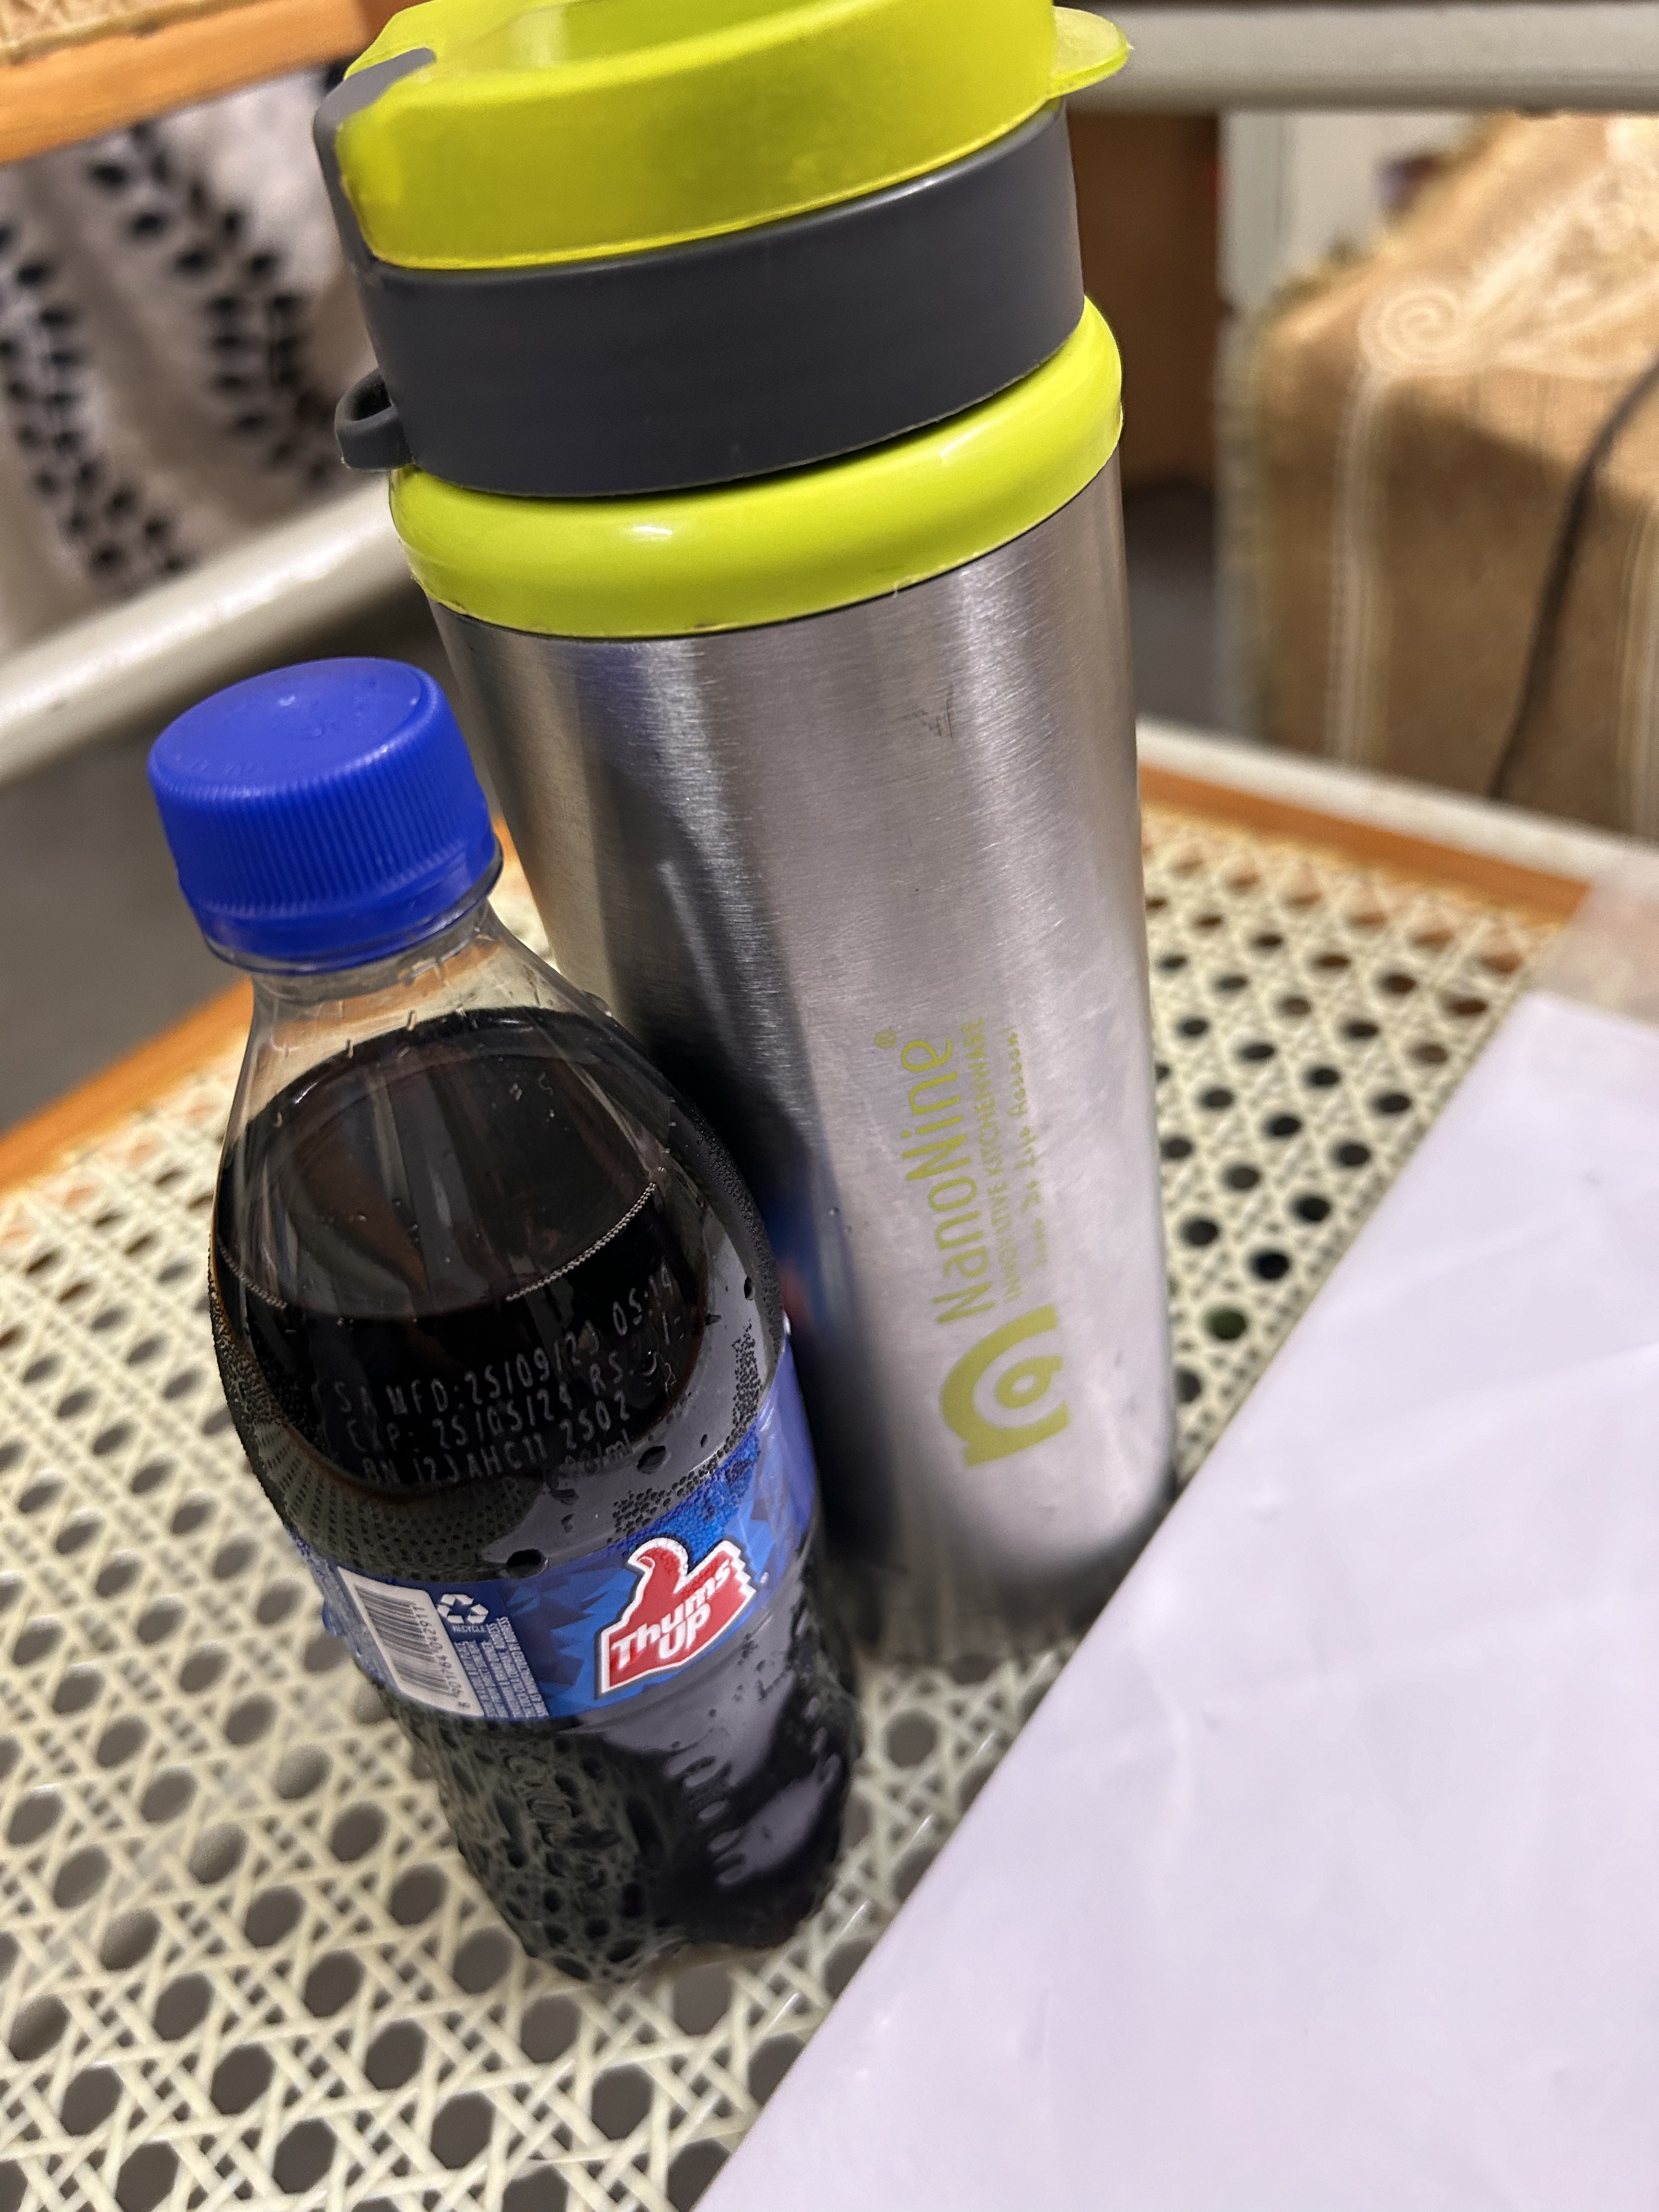sealstable: (120, 676, 599, 1162)
